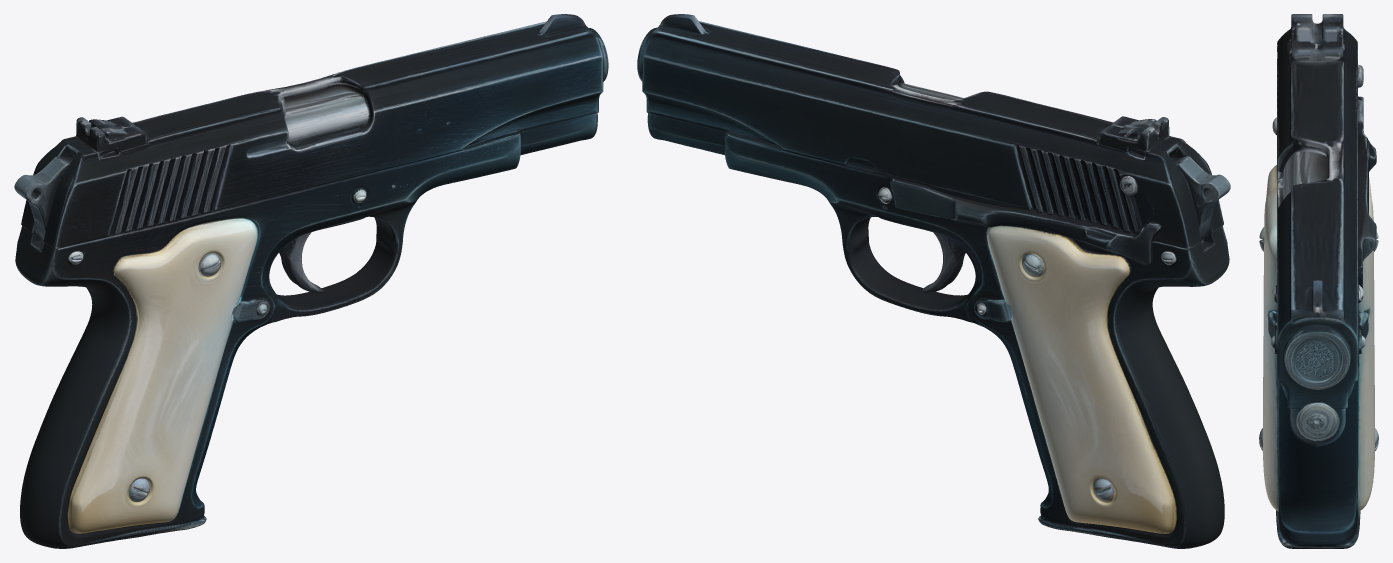
The model's file is sciencecompressed.glb.
3 views of the same model, side by side, from view 1: azimuth 30°, elevation 25°; view 2: azimuth 150°, elevation 25°; view 3: azimuth 270°, elevation 25° (orthographic). The views are drawn at different scales.
Visible parts, largest first — view 1: node_0; view 2: node_0; view 3: node_0.
Boxes of the visible parts, bbox=[...] form: node_0: bbox=[14, 14, 608, 548]; node_0: bbox=[637, 14, 1230, 548]; node_0: bbox=[1259, 14, 1378, 548].
Bounding box in the file's own units: 1.03 × 0.7081 × 0.1614.
Materials: 1 (1 with a texture image).
